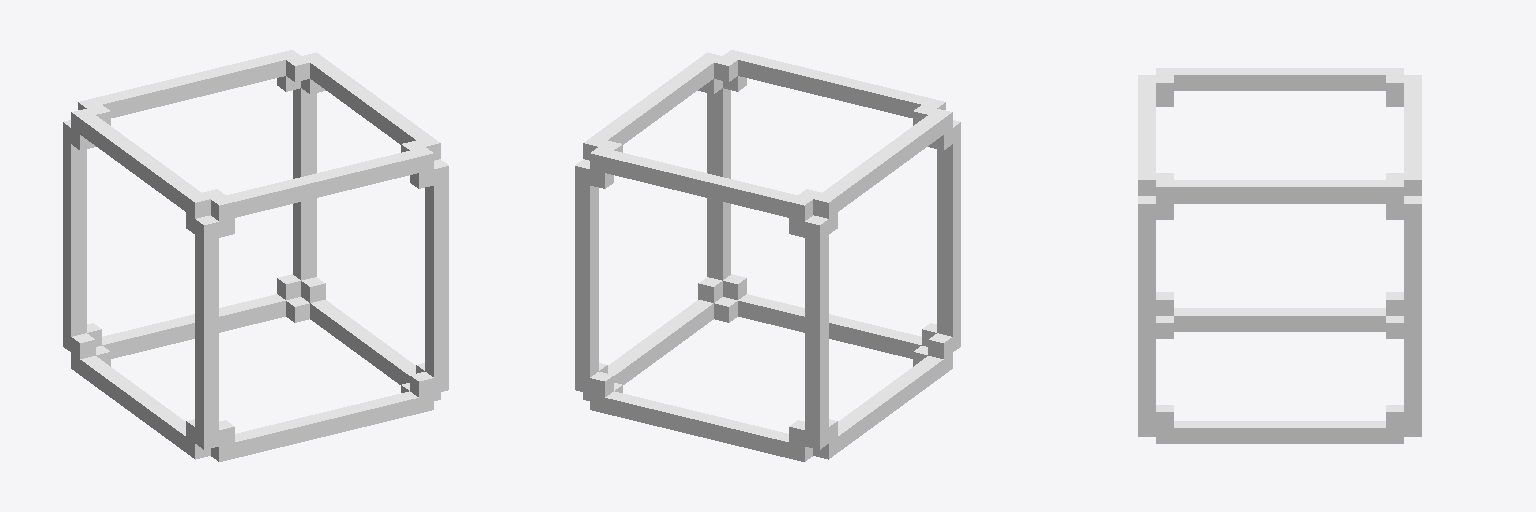
The model's file is mv-frame.obj.
3 views of the same model, side by side, from view 1: azimuth 30°, elevation 25°; view 2: azimuth 150°, elevation 25°; view 3: azimuth 270°, elevation 25° (orthographic).
Size of the model in its own units: 16 by 16 by 16.